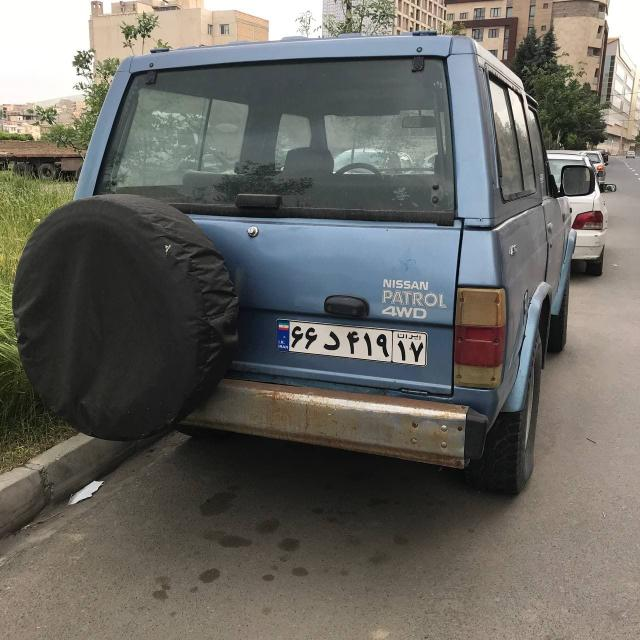Plates: (273, 319, 429, 366)
